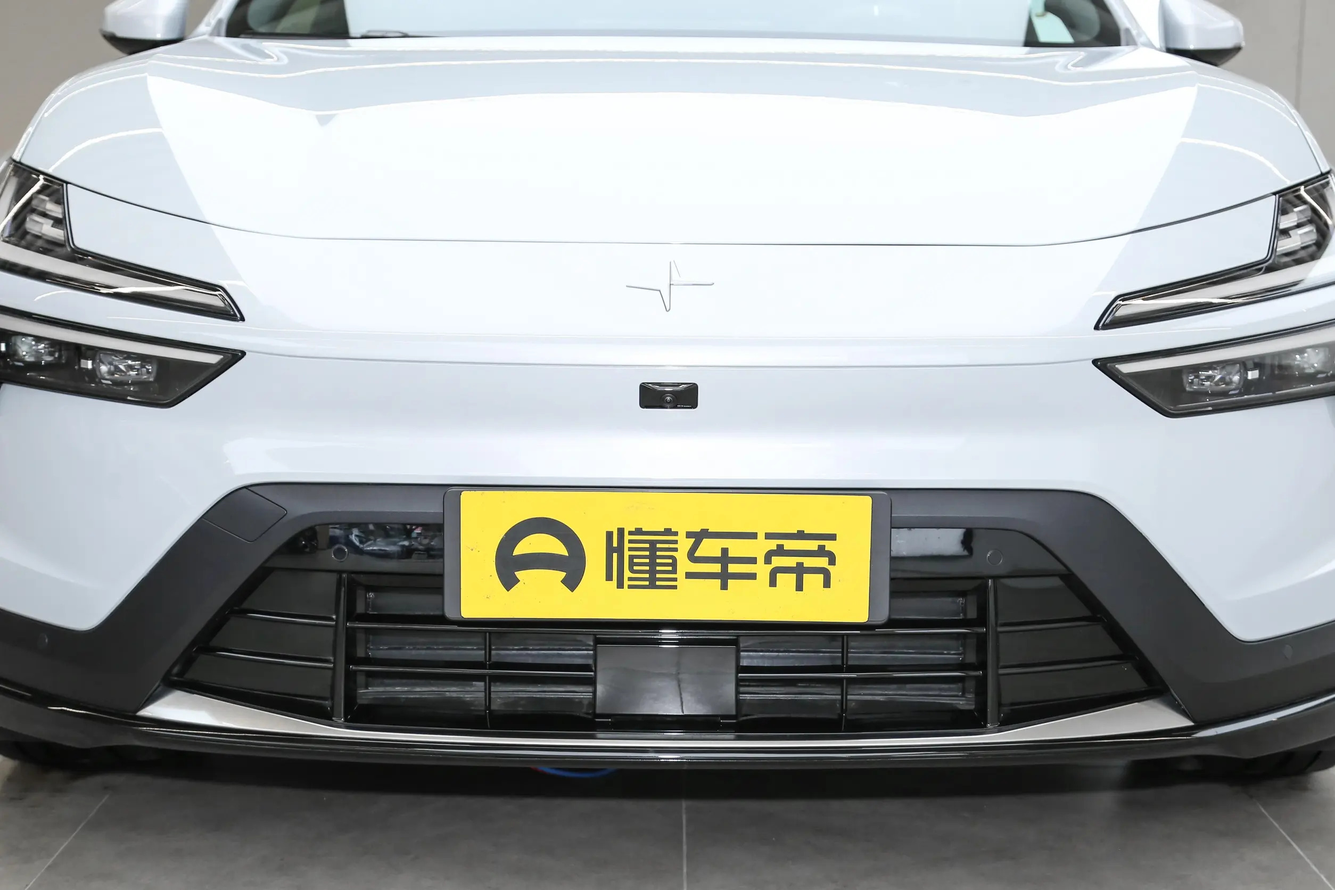Polestar: (627, 260, 713, 311)
